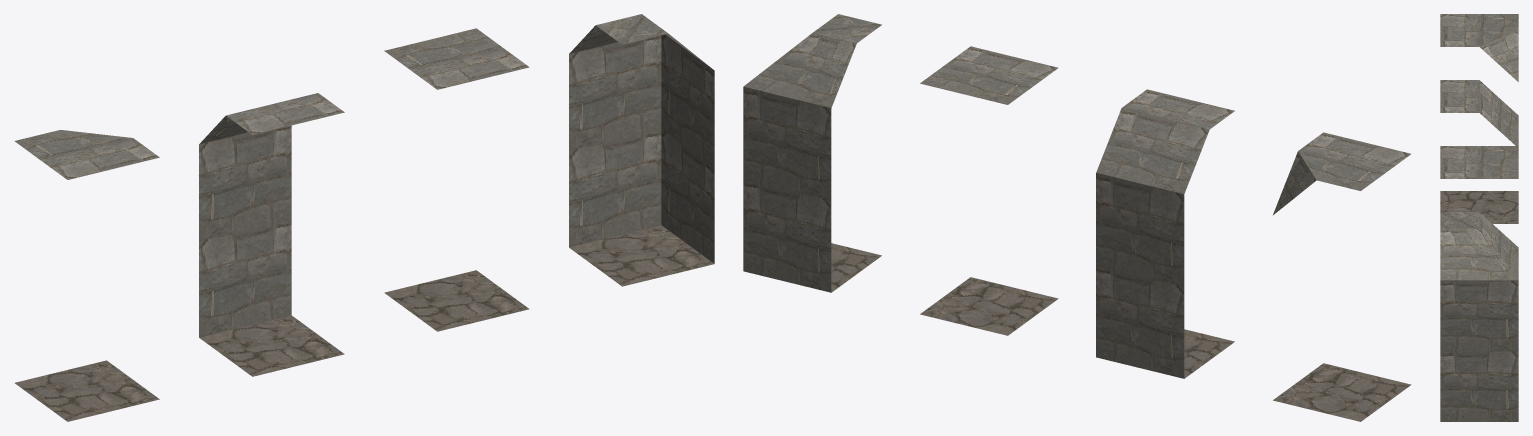
File: 3d-tiles.glb
3 views of the same model, side by side, from view 1: azimuth 30°, elevation 25°; view 2: azimuth 150°, elevation 25°; view 3: azimuth 270°, elevation 25° (orthographic). The views are drawn at different scales.
Visible parts, largest first — view 1: cornor-out-col, wall-col, celing-col, cornor-in-col; view 2: wall-col, cornor-out-col, cornor-in-col, celing-col; view 3: cornor-out-col, cornor-in-col, wall-col, celing-col.
Part boxes in pixels (x1=…): cornor-out-col: x1=569, y1=14, x2=714, y2=286; wall-col: x1=199, y1=93, x2=344, y2=376; celing-col: x1=384, y1=28, x2=529, y2=331; cornor-in-col: x1=14, y1=130, x2=159, y2=421; wall-col: x1=1096, y1=89, x2=1234, y2=378; cornor-out-col: x1=743, y1=14, x2=881, y2=292; cornor-in-col: x1=1273, y1=132, x2=1411, y2=421; celing-col: x1=920, y1=46, x2=1058, y2=335; cornor-out-col: x1=1440, y1=212, x2=1518, y2=421; cornor-in-col: x1=1440, y1=14, x2=1518, y2=223; wall-col: x1=1440, y1=80, x2=1518, y2=145; celing-col: x1=1440, y1=146, x2=1518, y2=178.
Size of the model in its own units: 7 by 2.5 by 1.
1 material, 1 textured.
